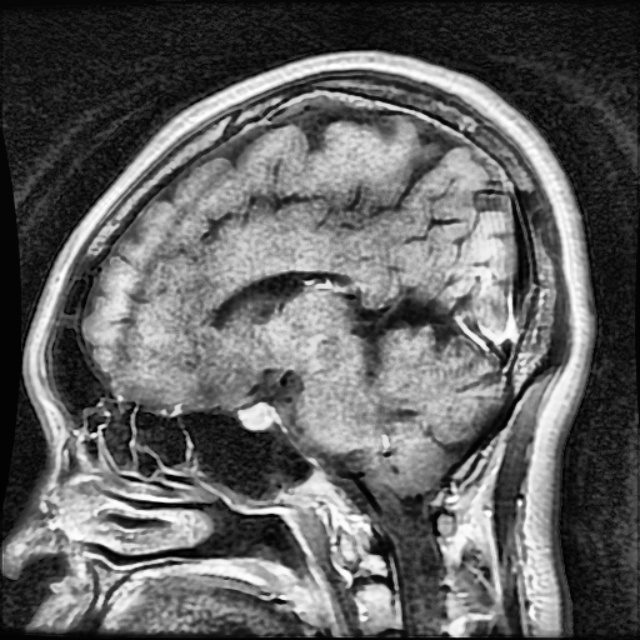Pituitary: (240, 400, 275, 429)
